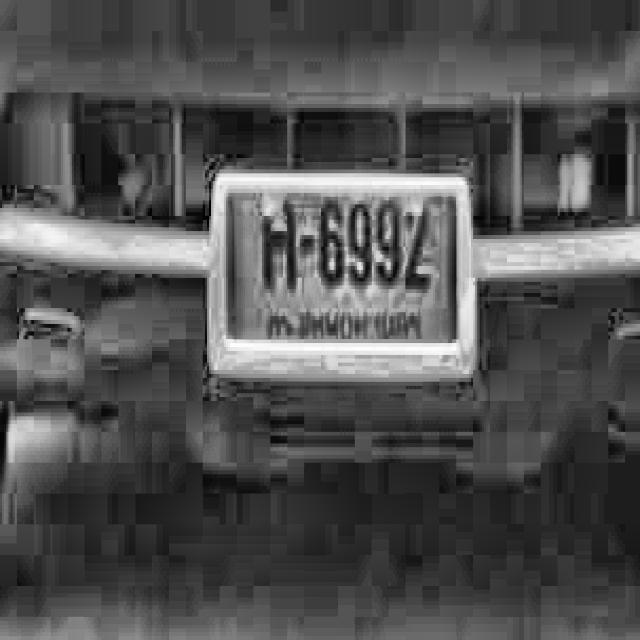license-plate: (198, 144, 483, 411)
